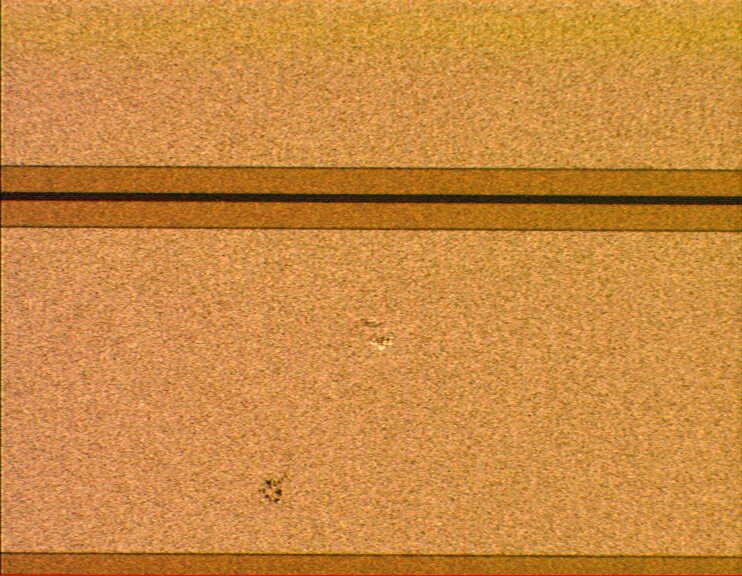SCRATCH: (250, 311, 410, 517)
